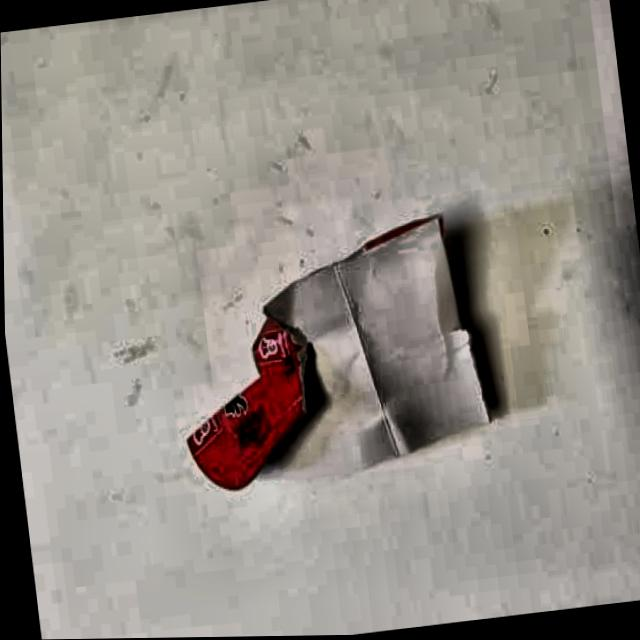Paper: (154, 194, 534, 529)
